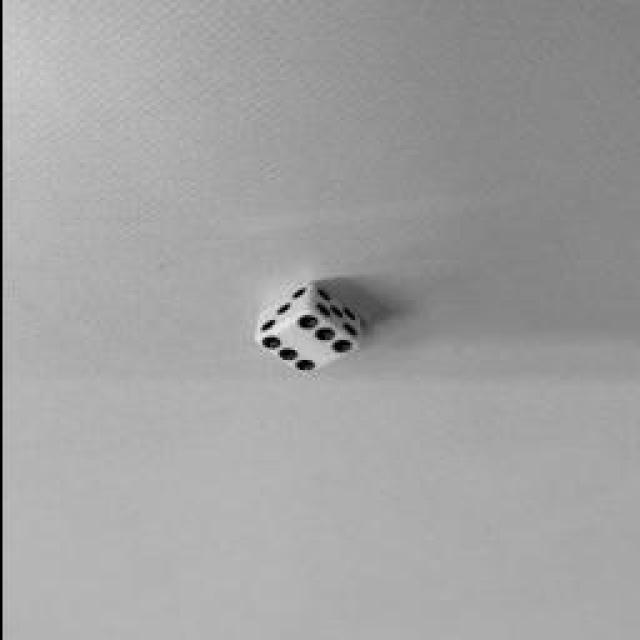dice_6: (258, 311, 358, 374)
